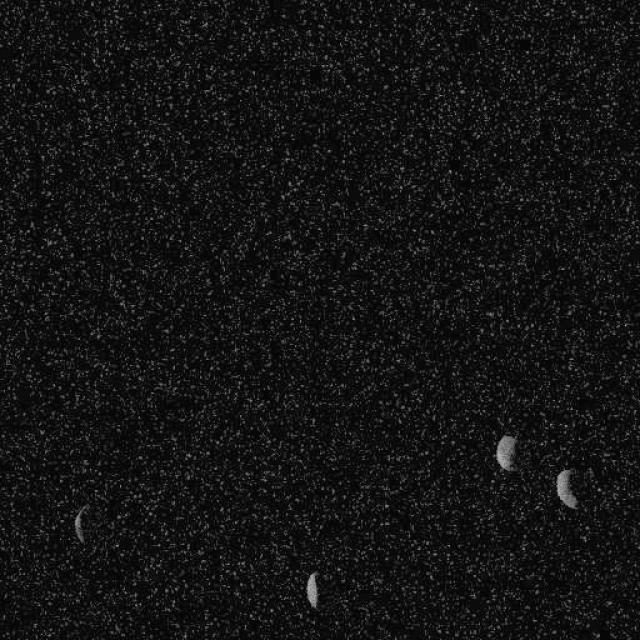D2: (555, 466, 579, 509), (495, 434, 519, 471), (72, 503, 90, 545), (305, 570, 319, 609)
